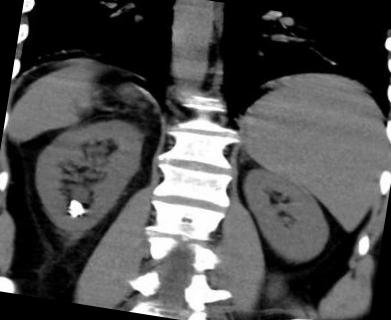Tas_Var: (59, 194, 90, 223)
